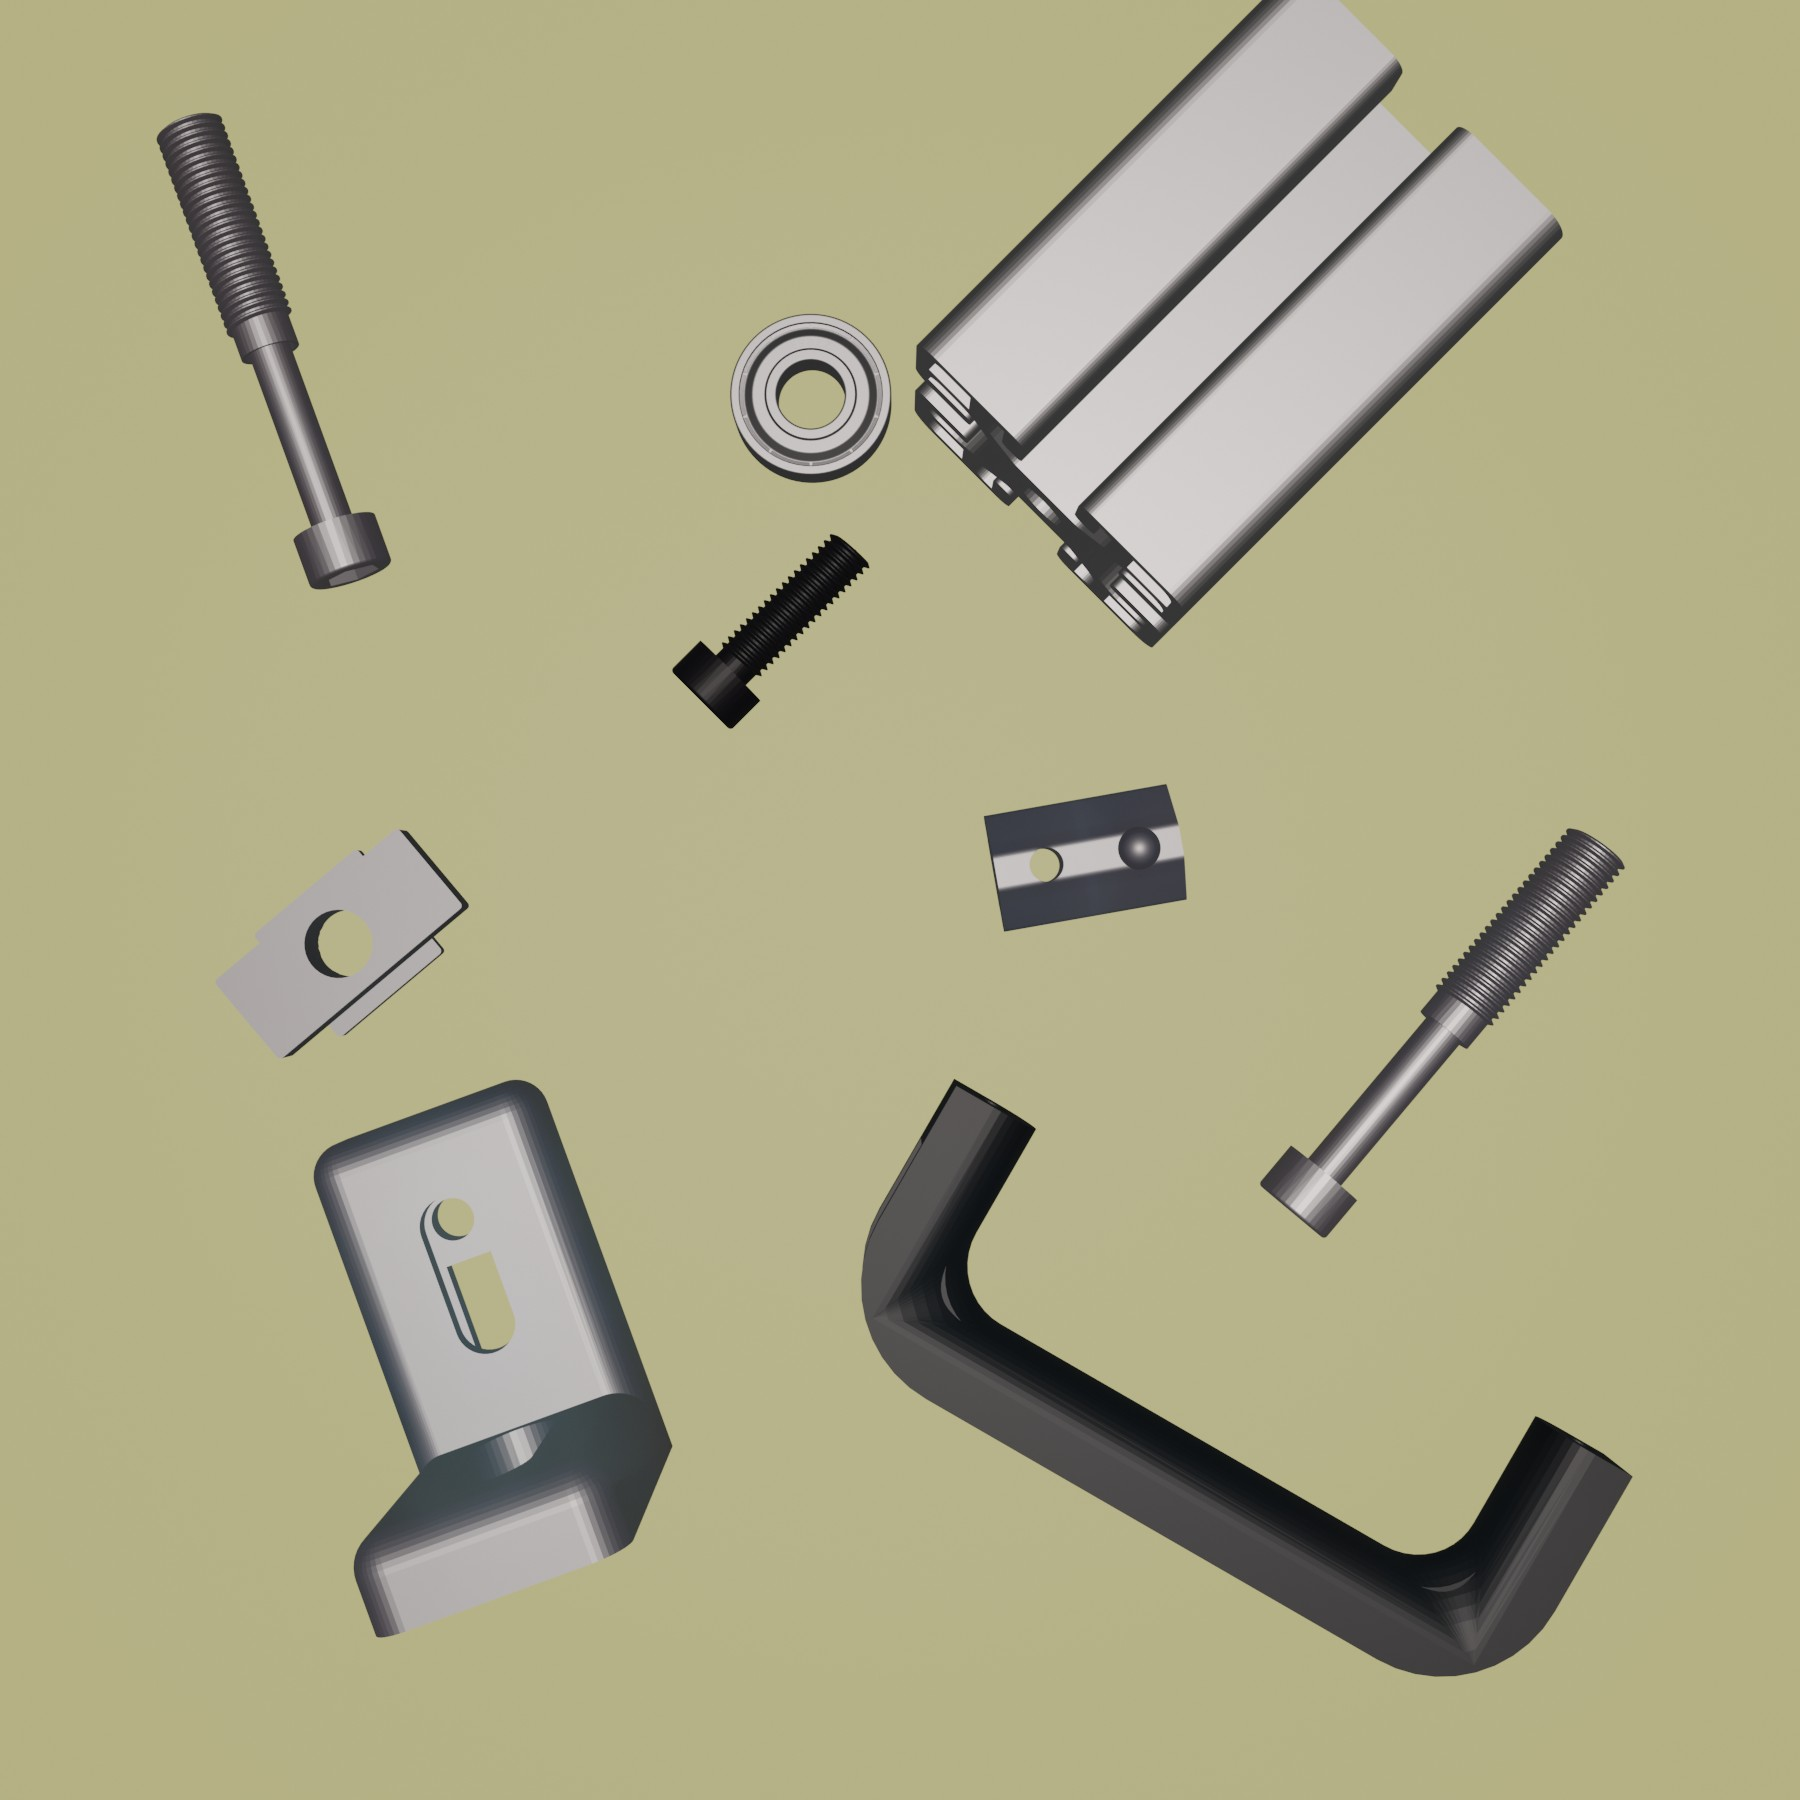Aluminium Extension: (912, 2, 1568, 649)
Ball Bearing: (729, 308, 897, 486)
Multiwinkel: (312, 1076, 676, 1638)
Pull Handle: (859, 1076, 1635, 1676)
Shoulder Socket Head Cap Screw: (1259, 823, 1629, 1240), (155, 109, 392, 593)
Socket Head Cap Screw: (673, 531, 869, 730)
T Nut Square: (214, 827, 473, 1062)
T Spring Nut: (981, 781, 1192, 935)
